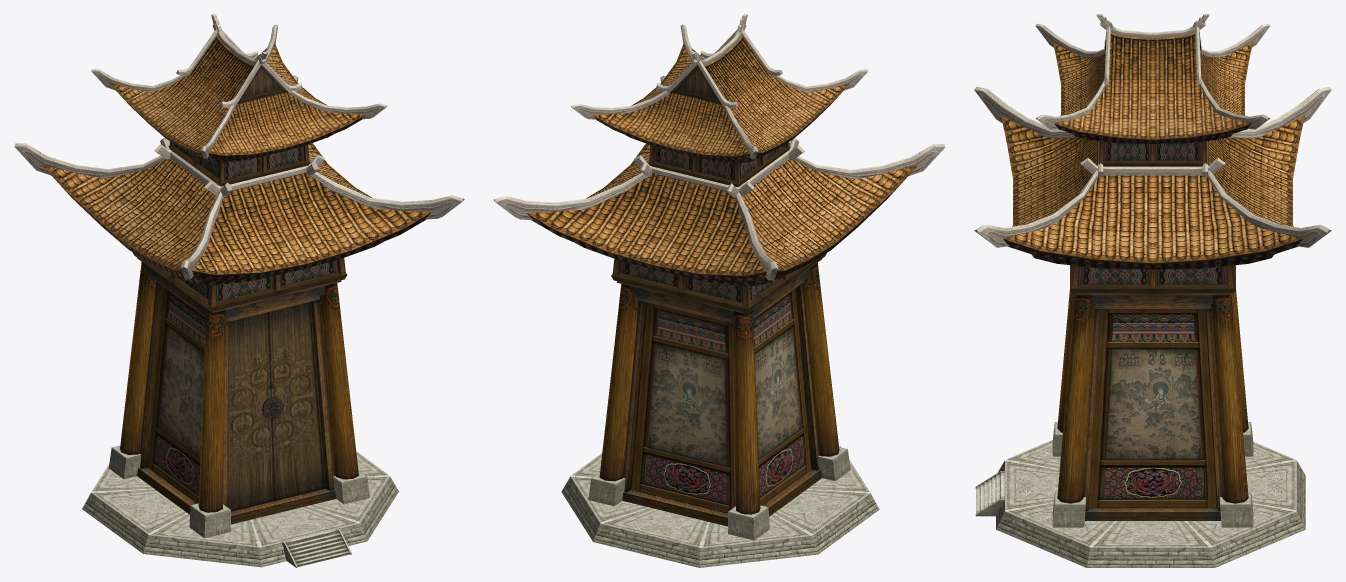
Rendered from otherworld_door_01.fbx.
The picture shows the model from 3 angles, left to right: view 1: azimuth 30°, elevation 25°; view 2: azimuth 150°, elevation 25°; view 3: azimuth 270°, elevation 25°; orthographic projection. The views are drawn at different scales.
Visible parts, largest first — view 1: otherworld_door_01; view 2: otherworld_door_01; view 3: otherworld_door_01.
Boxes of the visible parts, left/top/right/bottom form: otherworld_door_01: left=14, top=14, right=464, bottom=567; otherworld_door_01: left=493, top=14, right=945, bottom=567; otherworld_door_01: left=974, top=14, right=1331, bottom=567.
Bounding box in the file's own units: 26.93 × 42.14 × 28.02.
